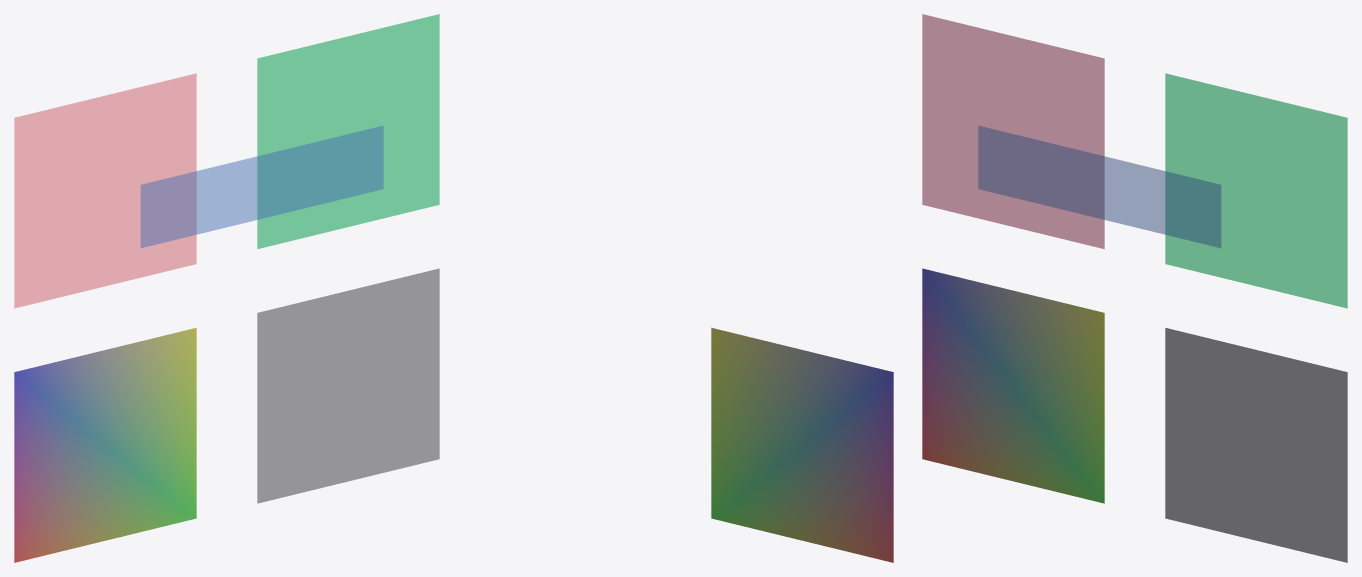
Rendered from render.gltf.
3 renders of one model, left to right at view 1: azimuth 30°, elevation 25°; view 2: azimuth 150°, elevation 25°; view 3: azimuth 330°, elevation 25°, orthographic.
Visible parts, largest first — view 1: Lit, Inter, Unlit, Strip, Blend; view 2: Strip; view 3: Unlit, Strip, Lit, Inter, Blend.
Boxes of the visible parts, <box> form: Lit: <box>14,73,196,308</box>; Inter: <box>257,268,439,503</box>; Unlit: <box>257,14,439,249</box>; Strip: <box>14,327,196,562</box>; Blend: <box>140,126,383,247</box>; Strip: <box>711,327,893,562</box>; Unlit: <box>1165,73,1347,308</box>; Strip: <box>922,268,1104,503</box>; Lit: <box>922,14,1104,249</box>; Inter: <box>1165,327,1347,562</box>; Blend: <box>978,126,1221,247</box>.
Size of the model in its own units: 1.75 by 1.75 by 0.25.
